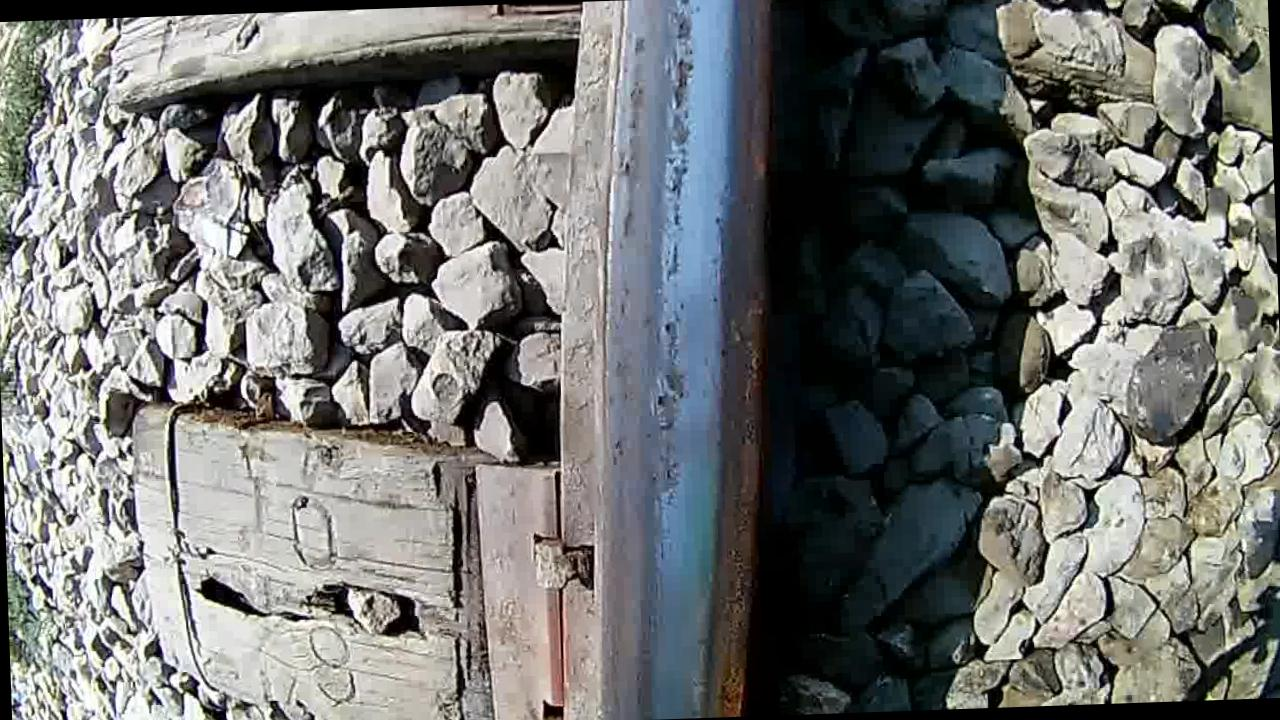crack: (590, 0, 793, 720)
